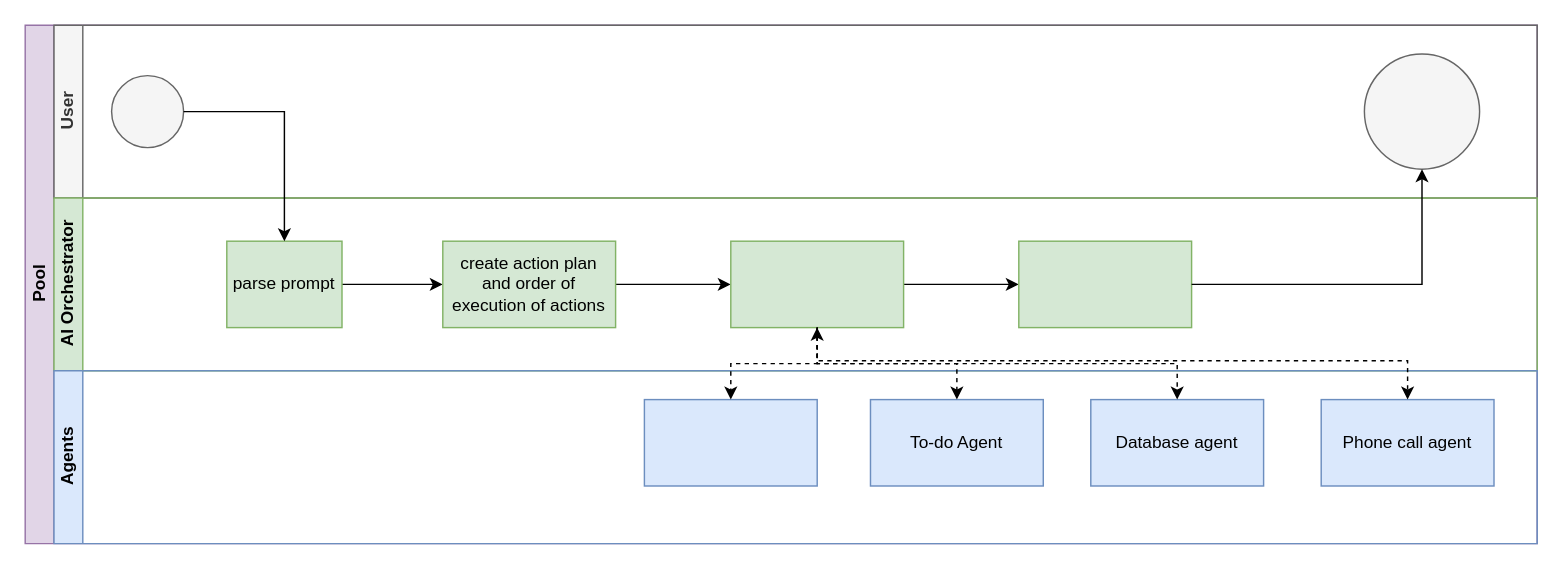
The diagram is 1562 pixels wide and 569 high, and some of its shapes have lost their labels. The shapes that lost their labels are listed below. From the top down, each one's centre as x and y in pixels, then its label:
At (147,111): "Prompt".
At (1421,111): "Response".
At (816,284): "coomunicate with relavent actions".
At (1104,284): "parse output".
At (730,442): "Calendar agent".
